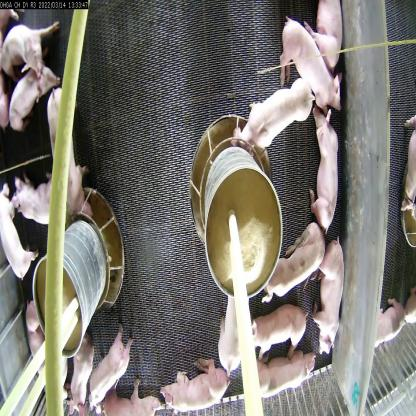Pig: (308, 102, 348, 246), (230, 298, 312, 365), (238, 348, 318, 415), (46, 92, 85, 227), (278, 25, 335, 116), (243, 76, 308, 150), (317, 246, 352, 366), (0, 190, 34, 304), (266, 226, 322, 292), (164, 360, 229, 416), (10, 171, 62, 239), (3, 67, 58, 123), (87, 329, 122, 403), (94, 380, 160, 415), (0, 21, 43, 73)
